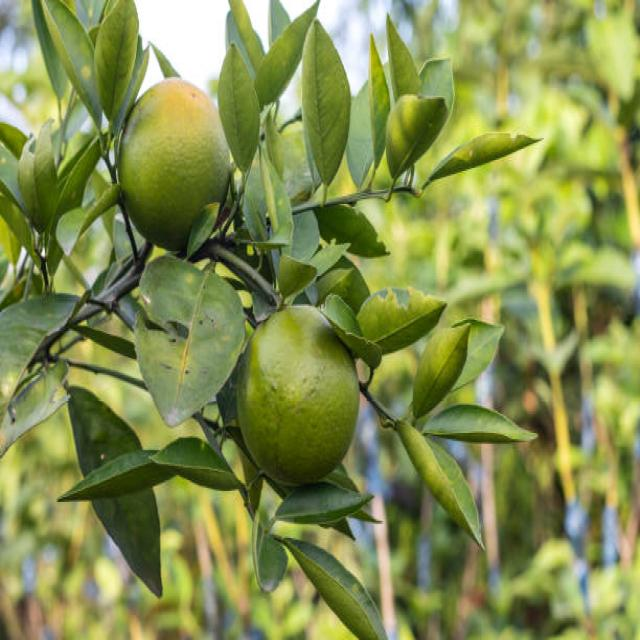Unripe: (234, 302, 360, 484), (118, 77, 230, 250)
